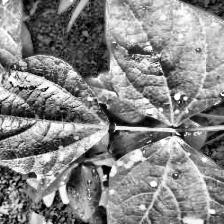Bean Rust: (93, 0, 224, 124), (0, 57, 116, 184), (101, 135, 224, 224)
